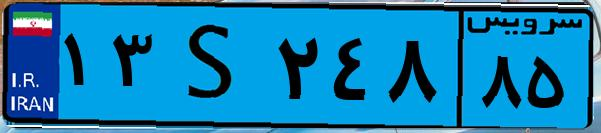1: (57, 26, 110, 100)
2: (270, 28, 330, 110)
3: (110, 28, 158, 98)
4: (330, 28, 385, 110)
5: (525, 38, 570, 115)
8: (385, 28, 445, 110), (475, 38, 525, 113)
S: (158, 12, 270, 120)
